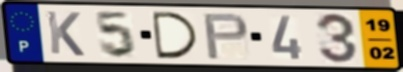3: (313, 11, 360, 65)
4: (270, 14, 304, 61)
5: (93, 10, 138, 60)
D: (148, 10, 201, 61)
K: (44, 9, 87, 58)
P: (201, 12, 252, 61)
